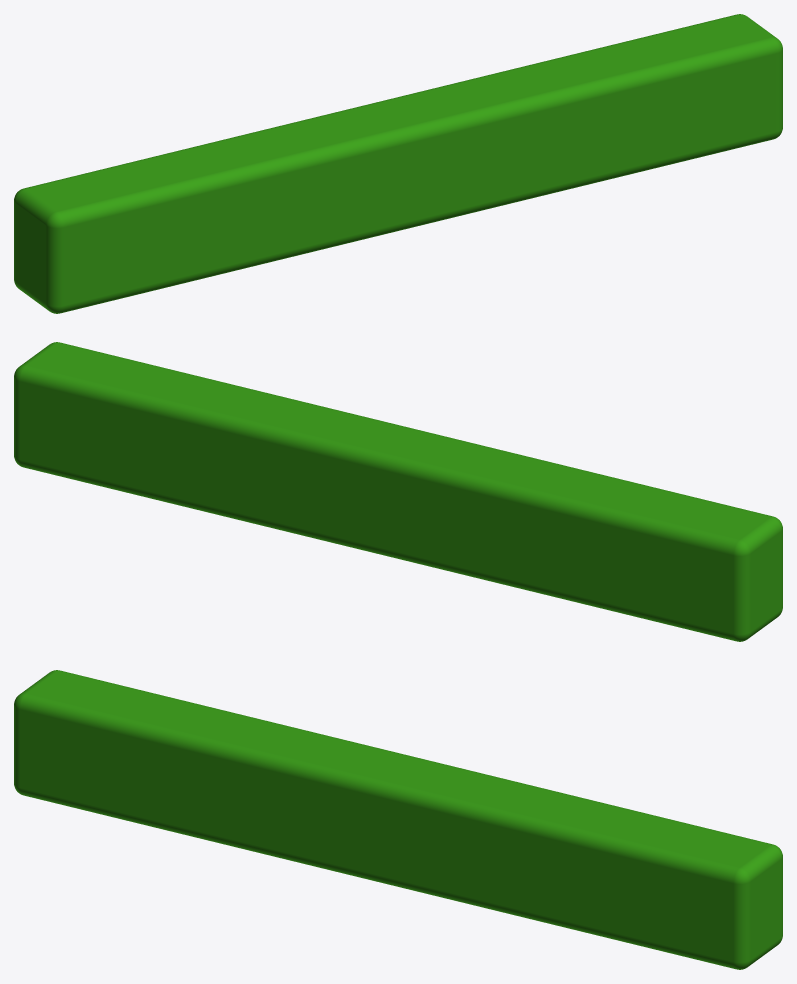
The model's file is Shrub_Long.fbx.
The picture shows the model from 3 angles, top to bottom: view 1: azimuth 30°, elevation 25°; view 2: azimuth 150°, elevation 25°; view 3: azimuth 330°, elevation 25°; orthographic projection.
Parts seen in each view (by area): view 1: Box 6; view 2: Box 6; view 3: Box 6.
Part boxes in pixels (<box>): Box 6: <box>14,14,782,313</box>; Box 6: <box>14,342,782,641</box>; Box 6: <box>14,670,782,969</box>.
Bounding box in the file's own units: 26.6 × 3.5 × 2.7.
